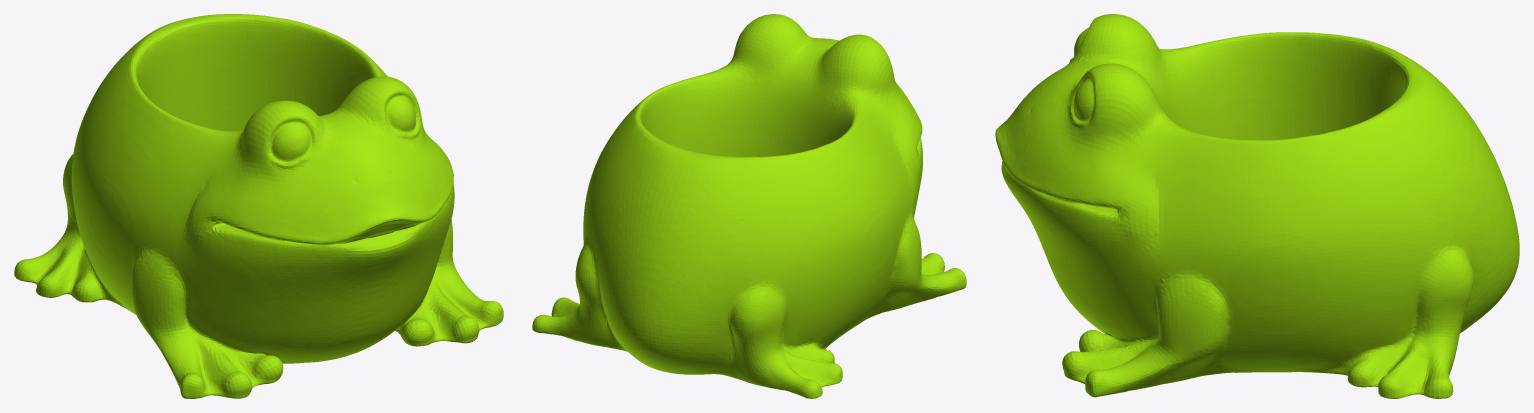
The model's file is frog-planter.glb.
The picture shows the model from 3 angles, left to right: view 1: azimuth 30°, elevation 25°; view 2: azimuth 150°, elevation 25°; view 3: azimuth 270°, elevation 25°; orthographic projection. The views are drawn at different scales.
Parts seen in each view (by area): view 1: frog+planter.obj_fil1; view 2: frog+planter.obj_fil1; view 3: frog+planter.obj_fil1.
Part boxes in pixels (<box>): frog+planter.obj_fil1: <box>14,14,503,398</box>; frog+planter.obj_fil1: <box>532,14,966,398</box>; frog+planter.obj_fil1: <box>995,14,1519,398</box>.
Size of the model in its own units: 0.1291 by 0.1 by 0.1732.
